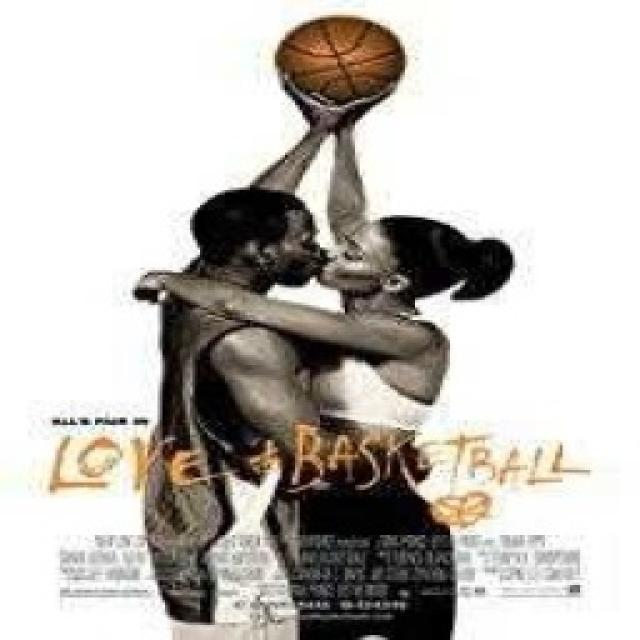rim: (272, 7, 414, 116)
